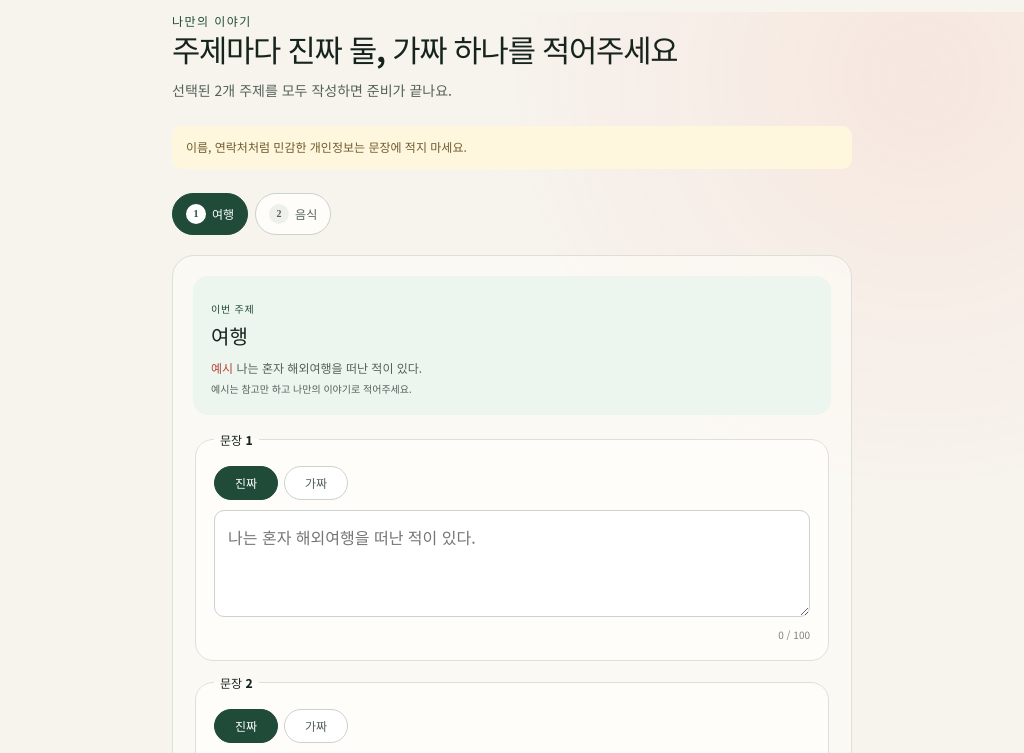
Test: StatementEditor › 선택된 라운드 주제와 문장 예시를 탭으로 보여준다
Check: the text "나는 혼자 해외여행을 떠난 적이 있다." is shown, box [236,359,422,376]
Click the tab "2 음식".
click(293, 214)  # box [255,193,331,235]
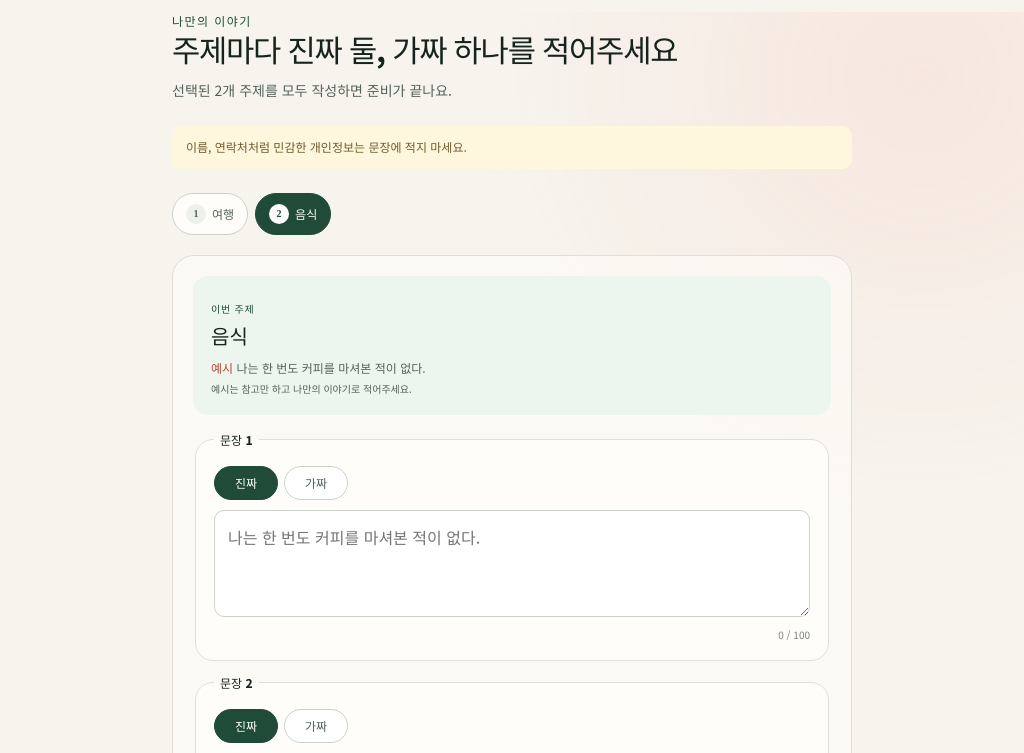
Check: the text "나는 한 번도 커피를 마셔본 적이 없다." is shown, box [236,359,426,376]
